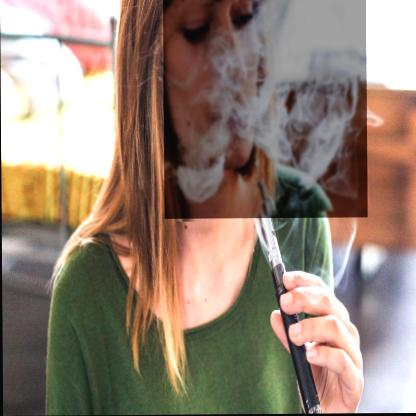smoke: (163, 0, 367, 219)
